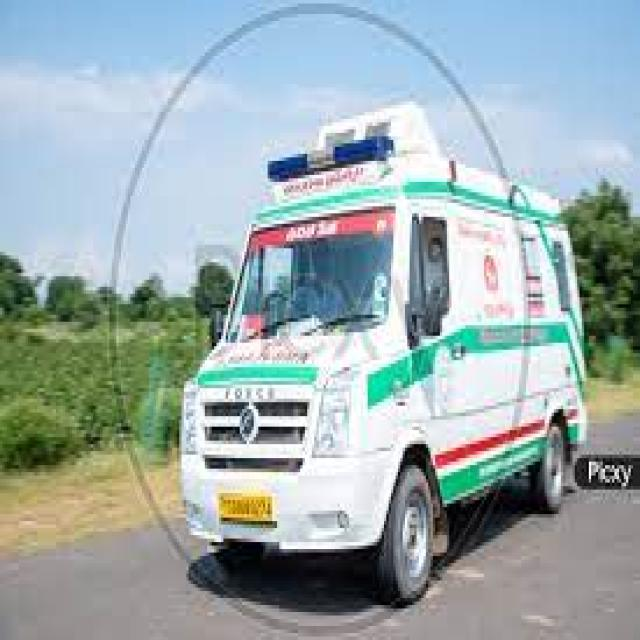ambulance: (181, 99, 587, 601)
